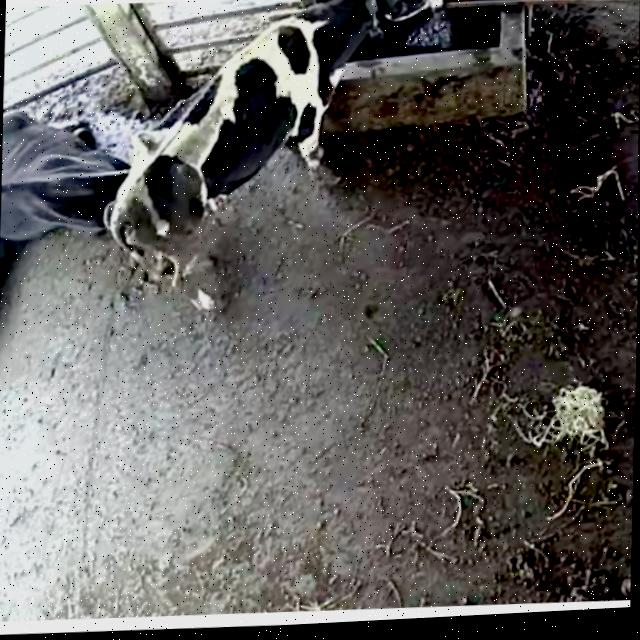drink: (283, 0, 455, 95)
